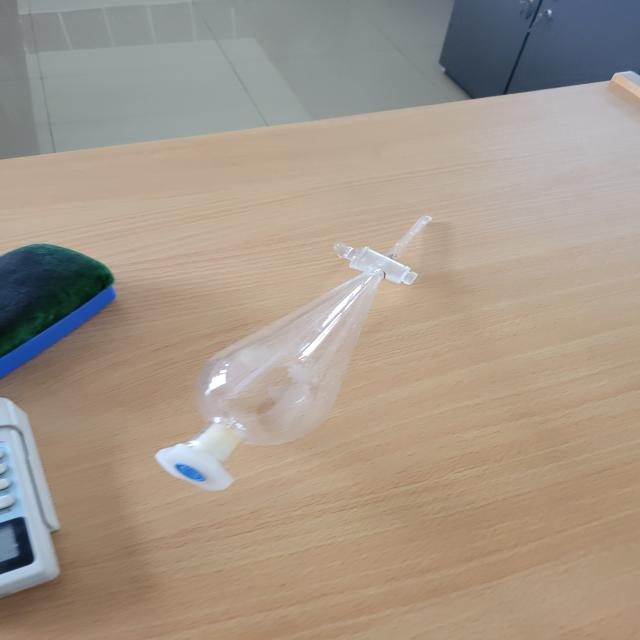Separating_Funnel: (140, 173, 463, 520)
